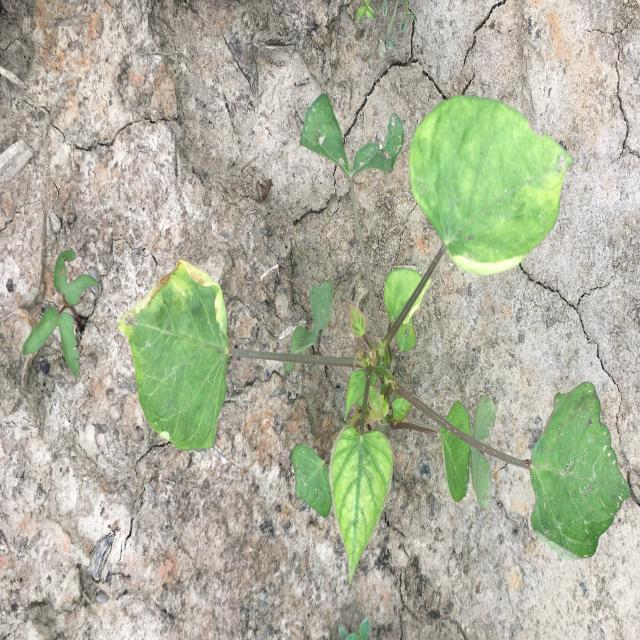MorningGlory: (118, 93, 632, 585), (22, 250, 99, 378)
